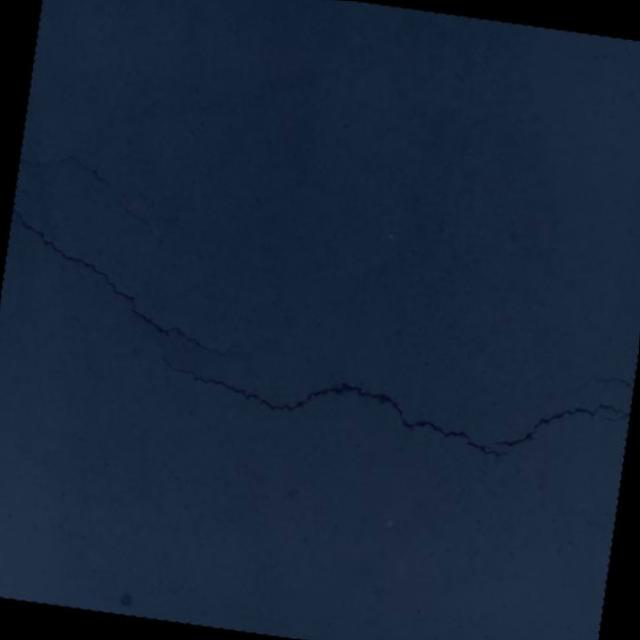crack: (130, 330, 520, 460), (0, 206, 241, 356), (12, 150, 237, 237), (488, 389, 632, 463), (548, 369, 634, 410)
